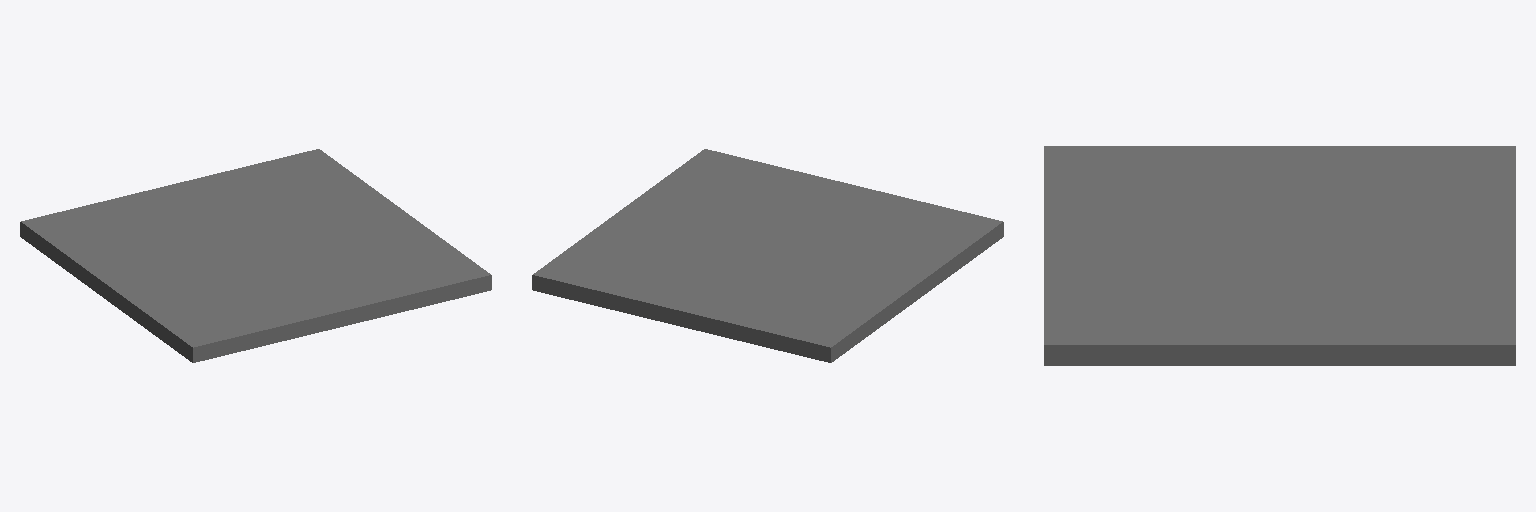
The robot description file, URDF, robot "basic_scene":
<?xml version="1.0" ?>
<robot name="basic_scene">
  
  <link name="ground_plane">
    <!-- Setting mass to 0 makes it a static (unmoving) object -->
    <inertial>
      <mass value="0.0"/>
      <origin rpy="0 0 0" xyz="0 0 0"/>
      <inertia ixx="0.0" ixy="0.0" ixz="0.0" iyy="0.0" iyz="0.0" izz="0.0"/>
    </inertial>
    
    <visual>
      <!-- We shift the box down slightly so z=0 is exactly the floor surface -->
      <origin rpy="0 0 0" xyz="0 0 -0.5"/>
      <geometry>
        <box size="20 20 1"/>
      </geometry>
      <material name="grey">
        <color rgba="0.5 0.5 0.5 1.0"/>
      </material>
    </visual>
    
    <collision>
      <origin rpy="0 0 0" xyz="0 0 -0.5"/>
      <geometry>
        <box size="20 20 1"/>
      </geometry>
    </collision>
  </link>
  
</robot>

--- Render facts (derived) ---
Views: 3 orthographic renders of the robot side by side, from view 1: azimuth 30°, elevation 25°; view 2: azimuth 150°, elevation 25°; view 3: azimuth 270°, elevation 25°.
Robot: basic_scene — 1 links, 0 joints (none); root link ground_plane; default pose: all joints at 0.
Links seen in each view (by area): view 1: ground_plane; view 2: ground_plane; view 3: ground_plane.
Boxes of the visible links, x1,y1,x2,y2 form: ground_plane: (20,149,491,362); ground_plane: (532,149,1003,362); ground_plane: (1044,146,1515,365).
Size in the robot's own frame: 20 by 20 by 1 metres.
Geometry: primitives only (box / cylinder / sphere), no mesh files.
